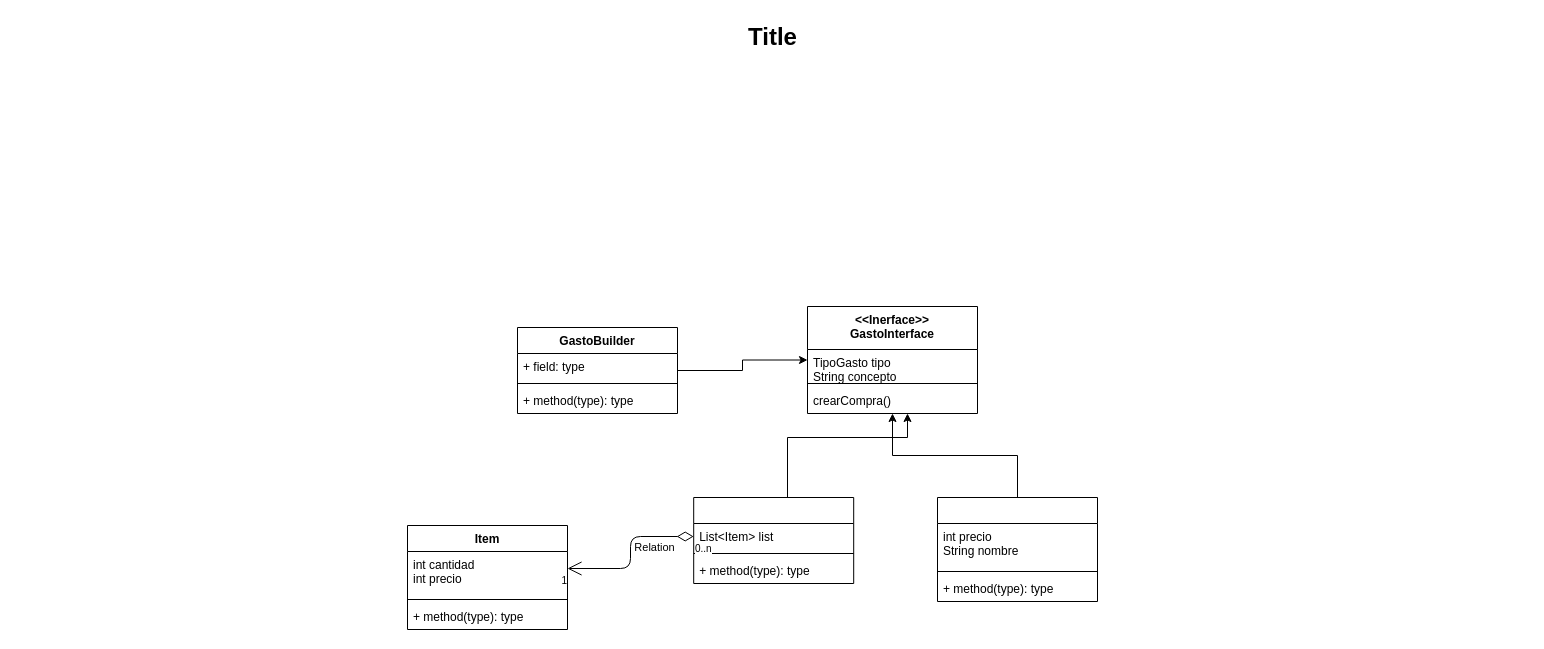
The diagram is 1544 pixels wide and 649 high, and some of its shapes have lost their labels. The box of each missing label's shape, as (x1, y1, x2, y2) in pixels:
GastoCompra: (693, 496, 854, 584)
GastoRapido: (936, 496, 1098, 602)
